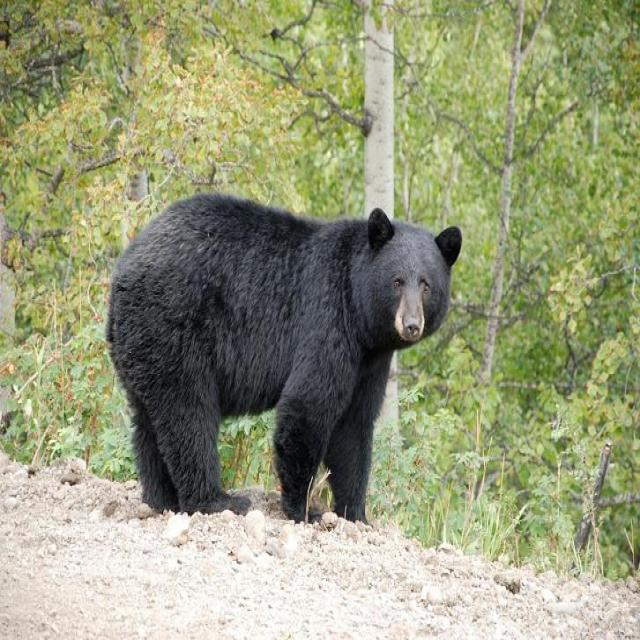Bear: (105, 194, 463, 525)
